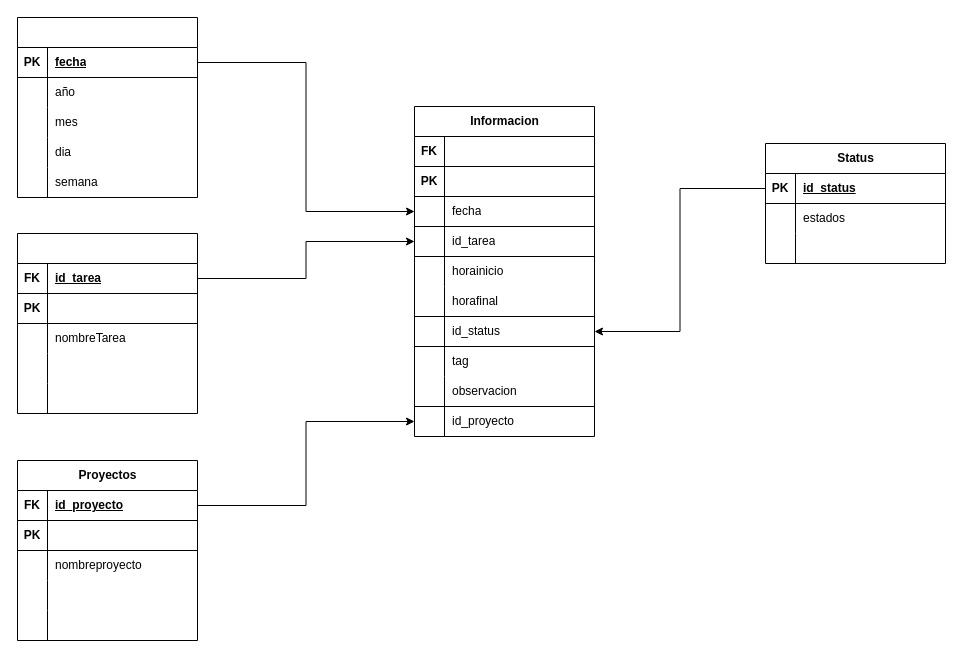
Image size: 963x658. Some labels were removed from this diagram. Each missing label, with the box of its shape:
Fechas: (16, 16, 198, 198)
Tareas: (16, 232, 198, 414)
